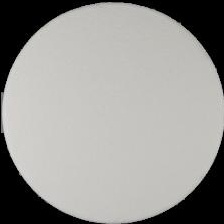68788-9333: (0, 0, 224, 224)
